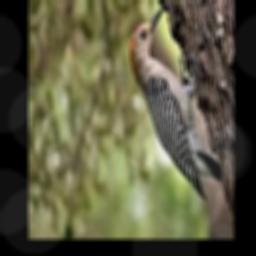Woodpecker: (129, 6, 222, 201)
